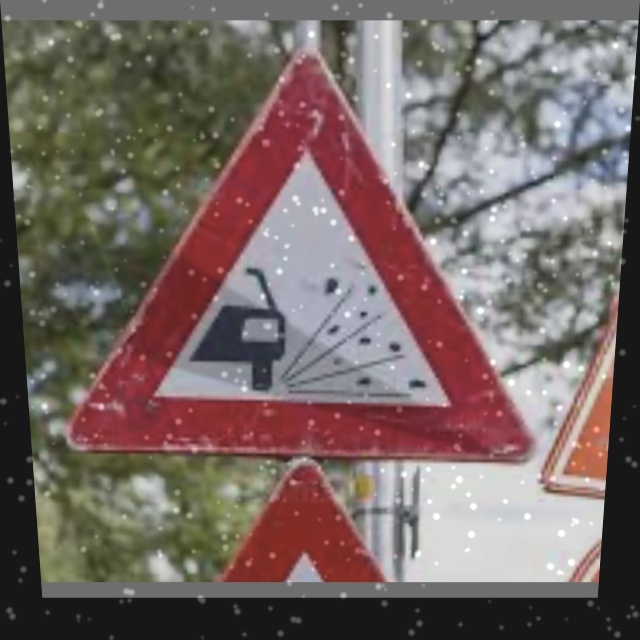Loose_Gravel: (62, 54, 555, 460)
